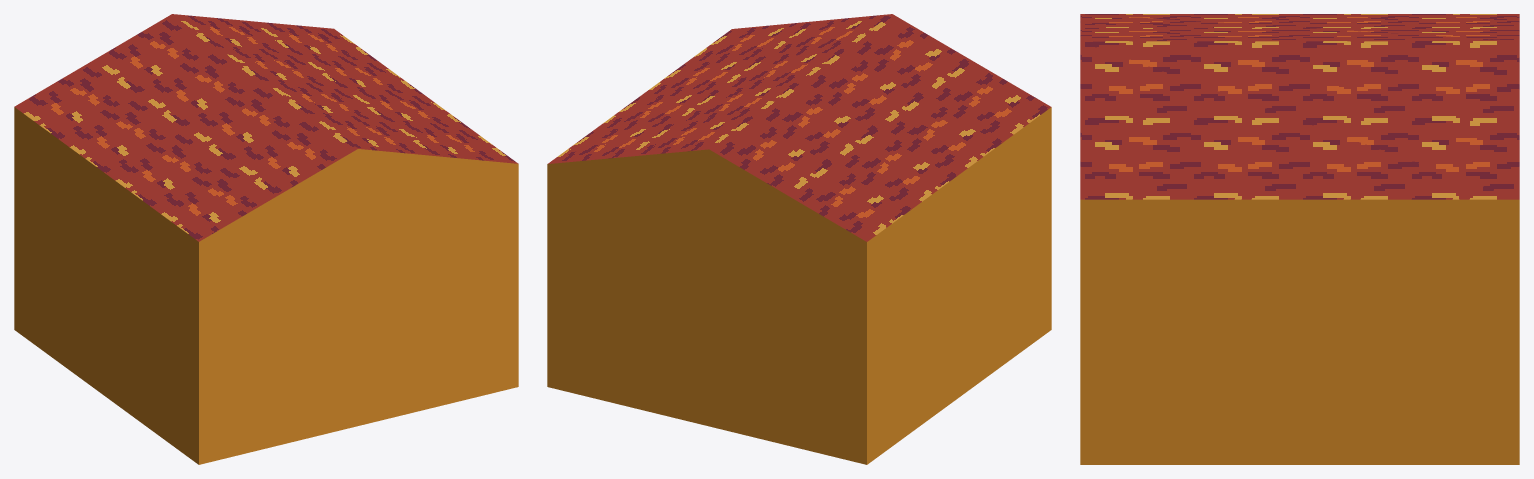
The model's file is Generic Building3.glb.
3 views of the same model, side by side, from view 1: azimuth 30°, elevation 25°; view 2: azimuth 150°, elevation 25°; view 3: azimuth 270°, elevation 25° (orthographic). The views are drawn at different scales.
Visible parts, largest first — view 1: GenericBuilding3-col; view 2: GenericBuilding3-col; view 3: GenericBuilding3-col.
Boxes of the visible parts, x1,y1,x2,y2 form: GenericBuilding3-col: (14,14,518,464); GenericBuilding3-col: (547,14,1051,464); GenericBuilding3-col: (1080,14,1519,464).
Bounding box in the file's own units: 4.38 × 3.63 × 4.38.
Materials: 2 (1 with a texture image).
